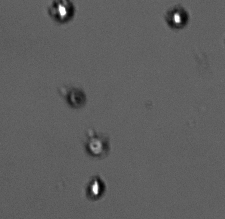Dead Cell: (66, 86, 87, 109)
Living Cell: (164, 4, 190, 30), (48, 1, 75, 24), (85, 175, 106, 201), (84, 136, 108, 158)
